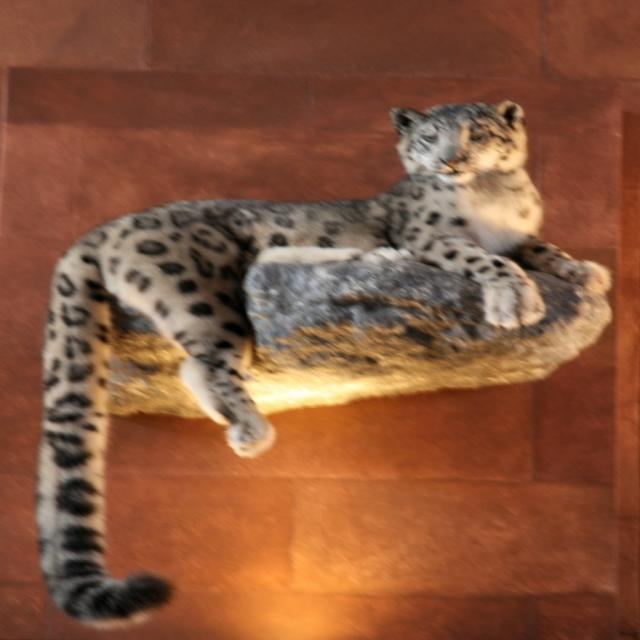Cheetah: (12, 70, 570, 628)
